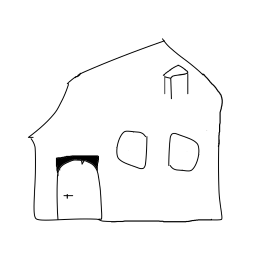chimney: (155, 62, 192, 100)
door: (50, 143, 110, 226)
open_window: (163, 125, 205, 173), (113, 125, 151, 175)
single_line_roof: (25, 33, 236, 127)
wall: (25, 120, 227, 225)
